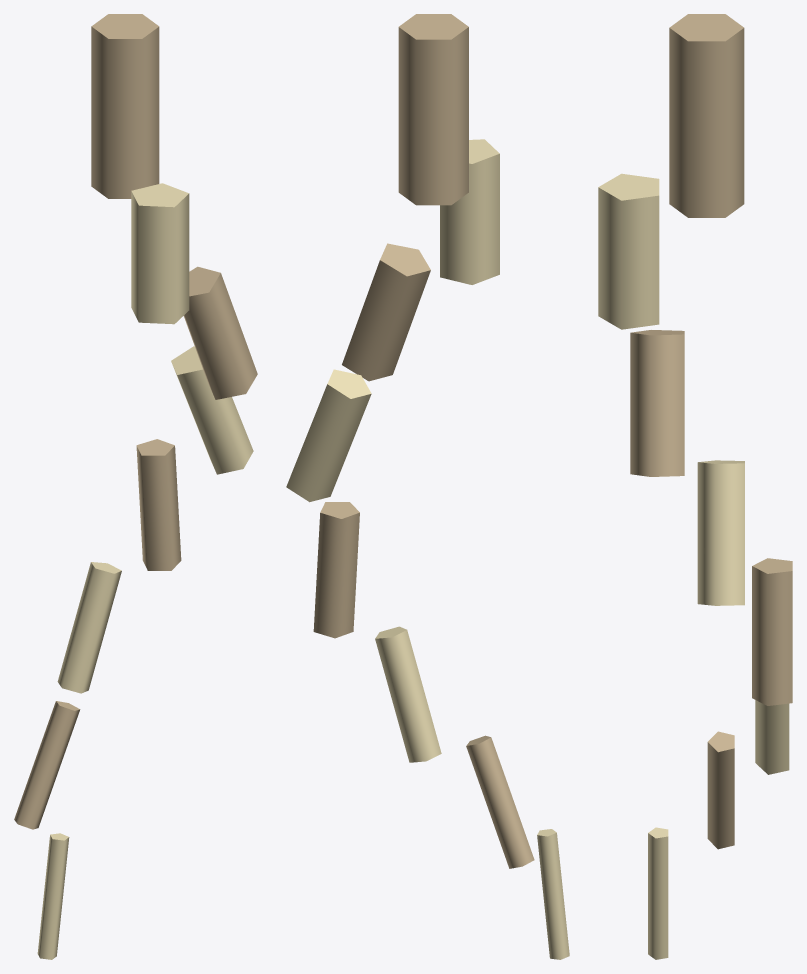
File: rattle.glb
3 renders of one model, left to right at view 1: azimuth 30°, elevation 25°; view 2: azimuth 150°, elevation 25°; view 3: azimuth 270°, elevation 25°, orthographic. The views are drawn at different scales.
Size of the model in its own units: 0.409 by 1.45 by 0.2597.
